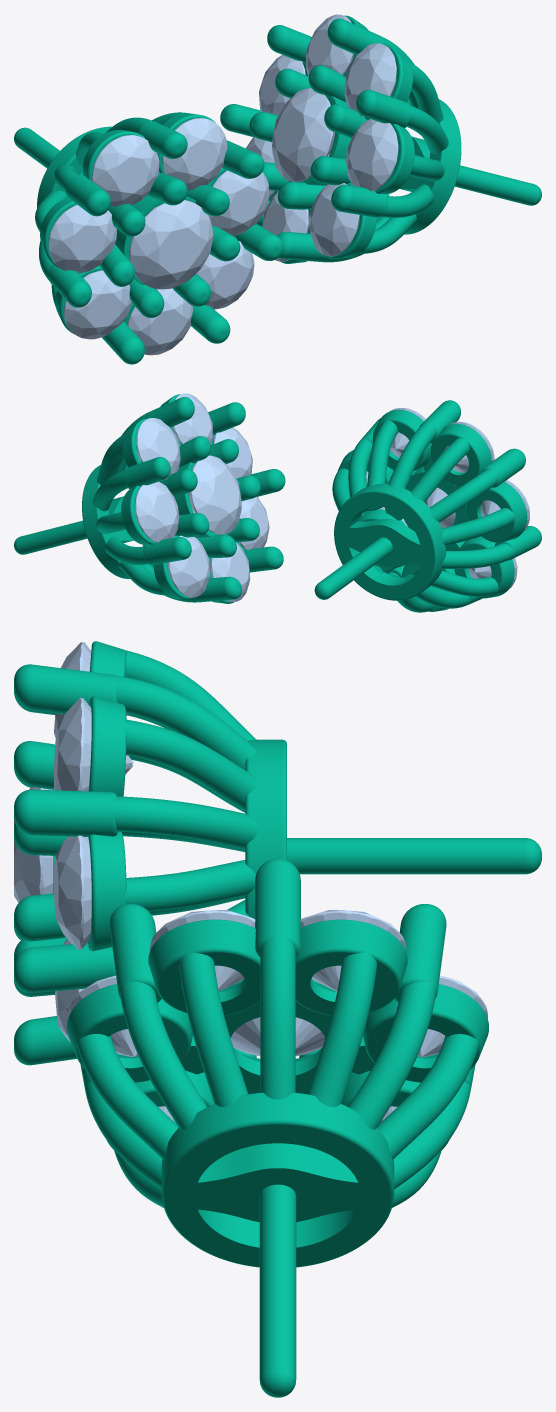
3 views of the same model, one above another, from view 1: azimuth 30°, elevation 25°; view 2: azimuth 150°, elevation 25°; view 3: azimuth 270°, elevation 25° (orthographic). The views are drawn at different scales.
Parts seen in each view (by area): view 1: Diamond_Round (×16), Head Prong (×27), VEAR700.3dm, Bezel (×8); view 2: VEAR700.3dm, Diamond_Round (×13), Head Prong (×17), Bezel (×12); view 3: VEAR700.3dm, Bezel (×8), Head Prong (×10), Diamond_Round (×8).
Part boxes in pixels (left/top/right/bottom): Diamond_Round (×16): left=48, top=14, right=398, bottom=355; Head Prong (×27): left=48, top=18, right=410, bottom=364; VEAR700.3dm: left=14, top=36, right=541, bottom=306; Bezel (×8): left=40, top=44, right=414, bottom=285; VEAR700.3dm: left=14, top=412, right=514, bottom=612; Diamond_Round (×13): left=135, top=393, right=529, bottom=601; Head Prong (×17): left=124, top=397, right=541, bottom=602; Bezel (×12): left=121, top=409, right=527, bottom=611; VEAR700.3dm: left=76, top=650, right=541, bottom=1397; Bezel (×8): left=67, top=641, right=488, bottom=1092; Head Prong (×10): left=14, top=664, right=446, bottom=1065; Diamond_Round (×8): left=14, top=697, right=487, bottom=1056.
Bounding box in the file's own units: 3.36 × 1.36 × 1.69.
